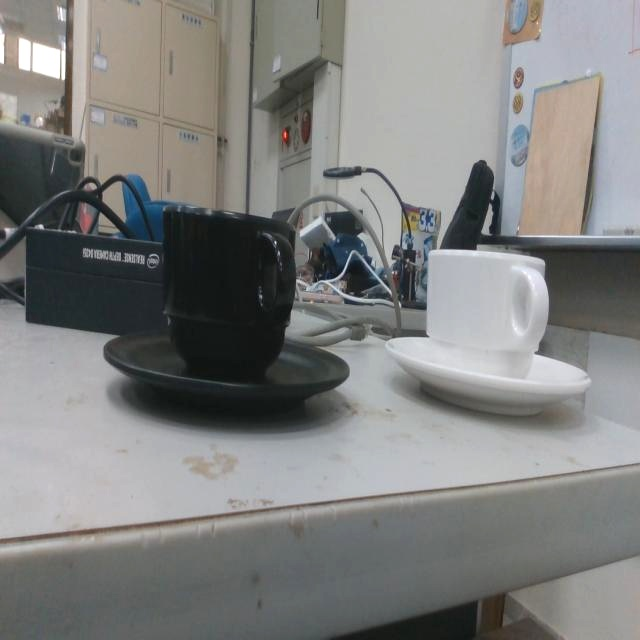black: (101, 202, 353, 420)
white: (384, 245, 594, 422)
